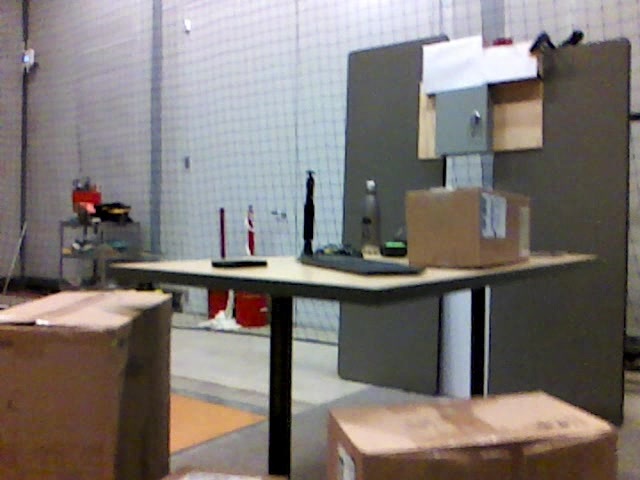box: (1, 291, 172, 480), (328, 393, 615, 480), (406, 187, 531, 264)
